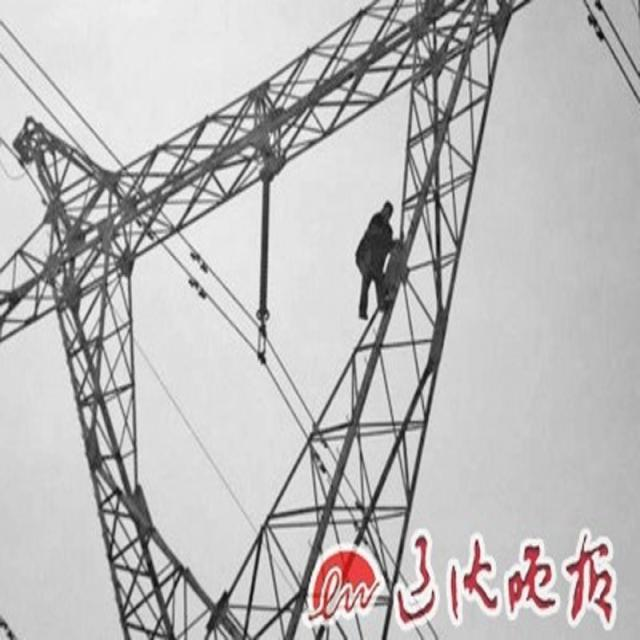non-critical vegetation: (7, 17, 500, 633)
